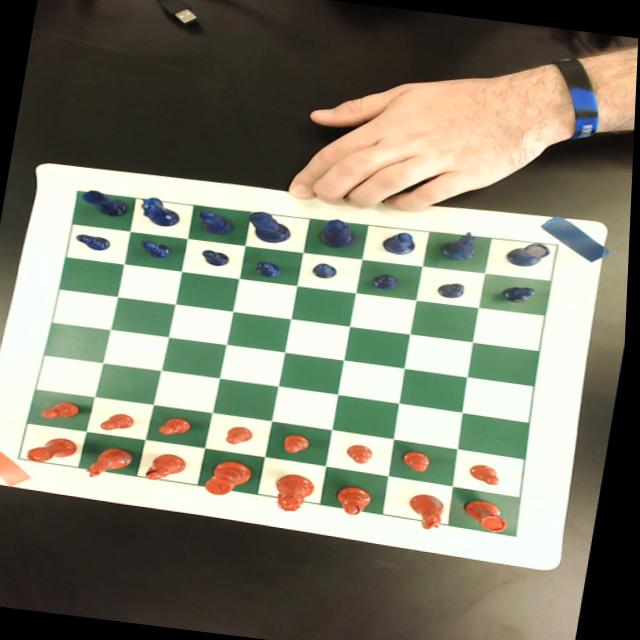B: (198, 207, 238, 235), (383, 229, 420, 255)
K: (246, 210, 296, 244)
N: (139, 195, 184, 227), (440, 226, 482, 260)
P: (254, 256, 287, 278), (504, 283, 539, 303), (75, 232, 113, 250), (139, 239, 174, 258), (200, 247, 233, 267), (372, 271, 404, 290), (312, 260, 342, 279), (438, 280, 469, 298)
Q: (319, 216, 361, 248)
R: (81, 188, 133, 218), (504, 236, 552, 268)
b: (149, 450, 191, 482), (338, 484, 377, 516)
k: (208, 457, 260, 498)
n: (87, 444, 138, 481), (408, 491, 451, 530)
p: (44, 398, 86, 422), (160, 414, 196, 437), (471, 462, 507, 485), (102, 410, 139, 432), (404, 448, 437, 472), (227, 423, 258, 445), (348, 442, 379, 463), (286, 432, 315, 454)
q: (275, 471, 321, 514)
r: (464, 496, 516, 534), (28, 432, 82, 466)
